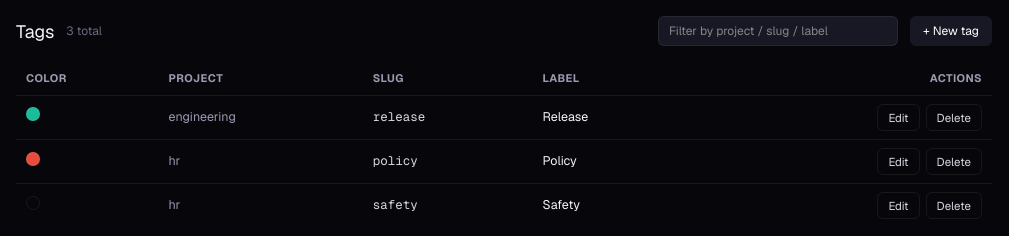
Scenario: TagsList › Delete on a row requires a confirm step (no accidental delete)
This screenshot has width=1009, height=236.
Expected: the row with test id "admin-tag-row-2" is shown, [16, 139, 992, 184]
Click the button with test id "admin-tag-row-2-delete": (954, 161) [926, 148, 982, 175]
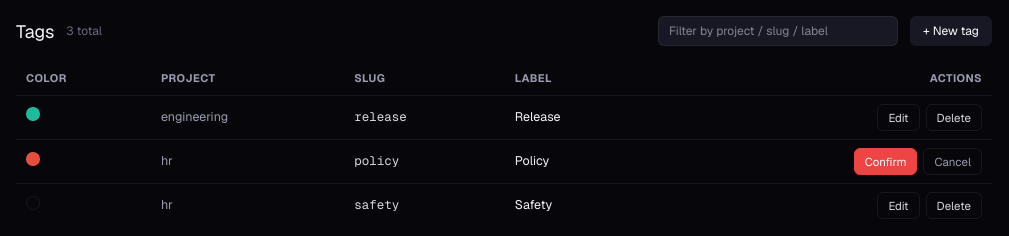
Expected: the button with test id "admin-tag-row-2-delete-confirm" is shown, [854, 148, 918, 175]
Expected: the button with test id "admin-tag-row-2-delete-cancel" is shown, [924, 148, 982, 175]
